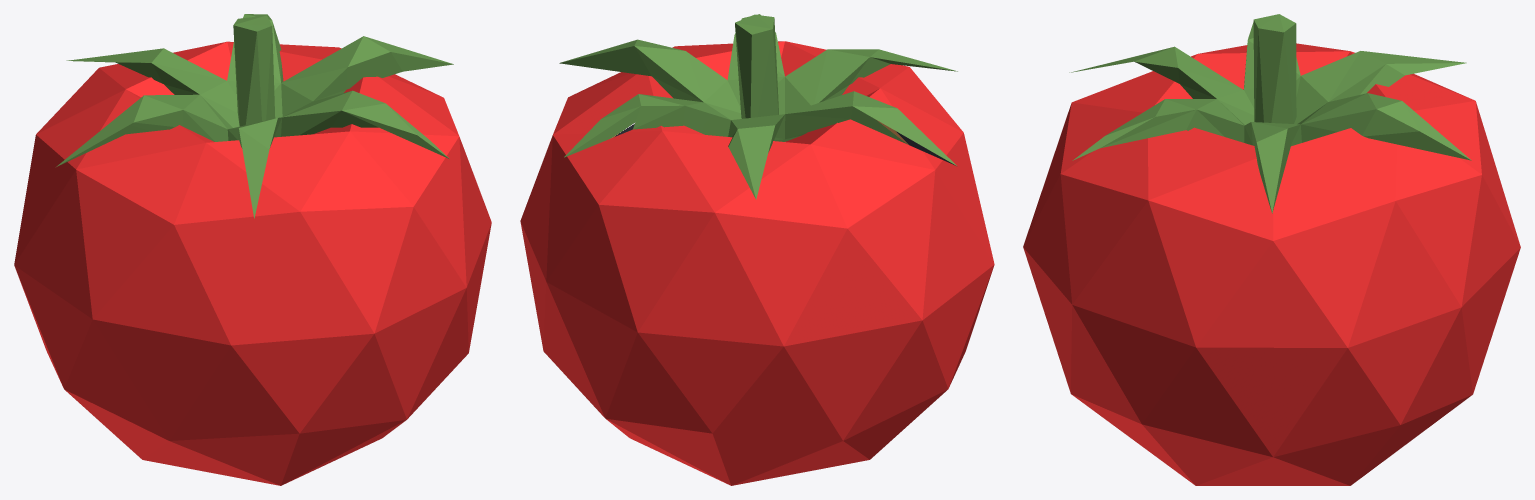
Rendered from Tomato.fbx.
3 views of the same model, side by side, from view 1: azimuth 30°, elevation 25°; view 2: azimuth 150°, elevation 25°; view 3: azimuth 270°, elevation 25° (orthographic). The views are drawn at different scales.
Visible parts, largest first — view 1: Tomato; view 2: Tomato; view 3: Tomato.
Part boxes in pixels (x1,y1,x2,y2): Tomato: (14,14,491,485); Tomato: (520,14,994,485); Tomato: (1023,14,1520,485).
Bounding box in the file's own units: 16.16 × 16.97 × 16.94.
